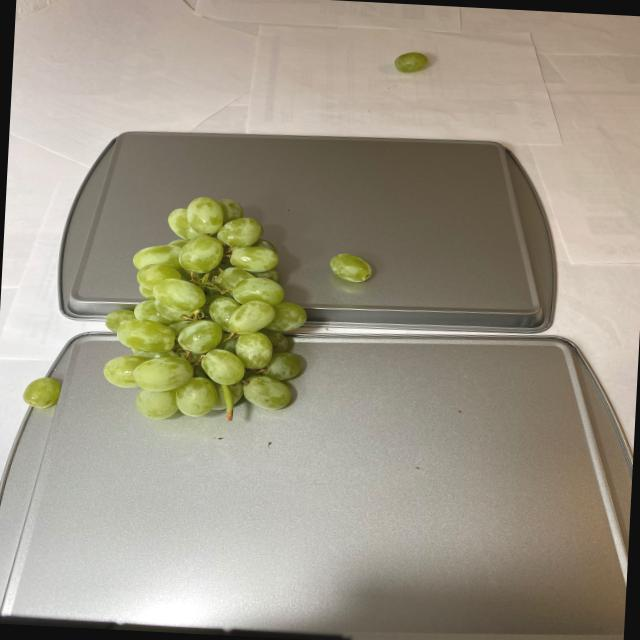grapes: (97, 192, 326, 435), (324, 254, 380, 288), (18, 375, 72, 409), (390, 50, 430, 74)
